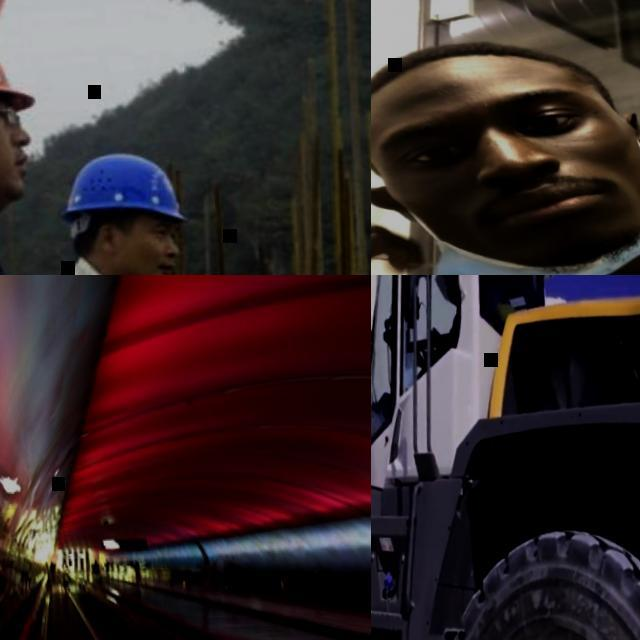Weapon: (368, 22, 638, 280)
objects: (371, 22, 636, 280), (51, 115, 212, 275)
